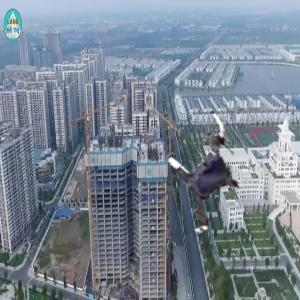drone: (148, 115, 268, 235)
